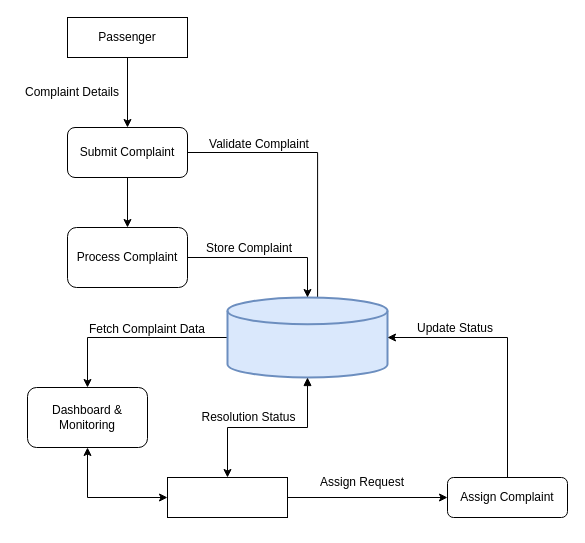
Image size: 585x543. Some labels were removed from this diagram. Each missing label, with the box of its shape:
Complaint Database (DynamoDB): (226, 296, 388, 378)
Railway Control Room: (166, 476, 288, 518)
